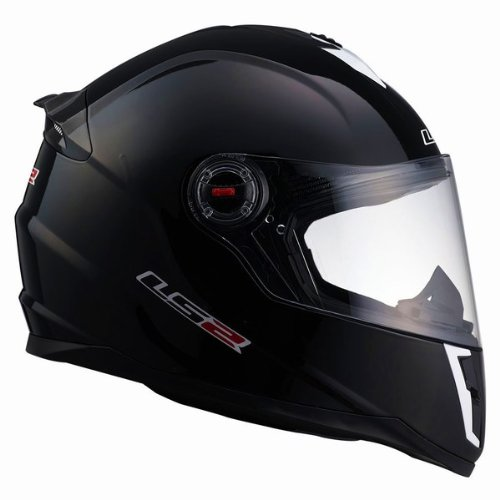with_helmet: (12, 20, 499, 480)
